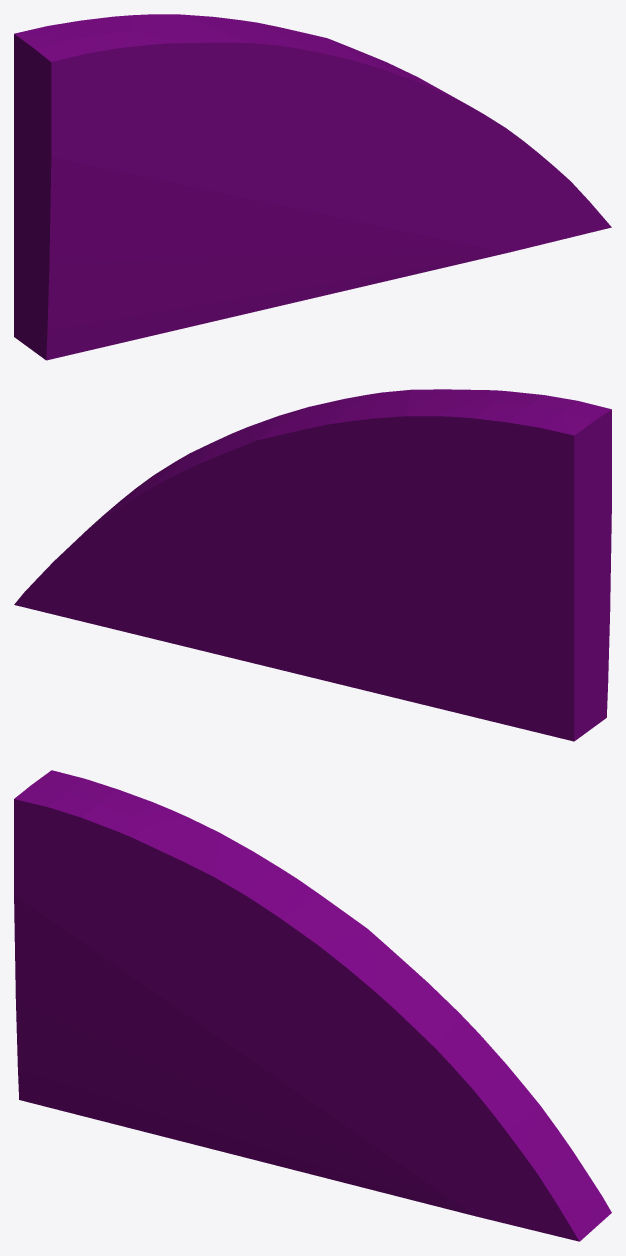
File: piece_11.obj
3 views of the same model, one above another, from view 1: azimuth 30°, elevation 25°; view 2: azimuth 150°, elevation 25°; view 3: azimuth 330°, elevation 25° (orthographic).
Size of the model in its own units: 0.0287 by 0.0149 by 0.00332.
